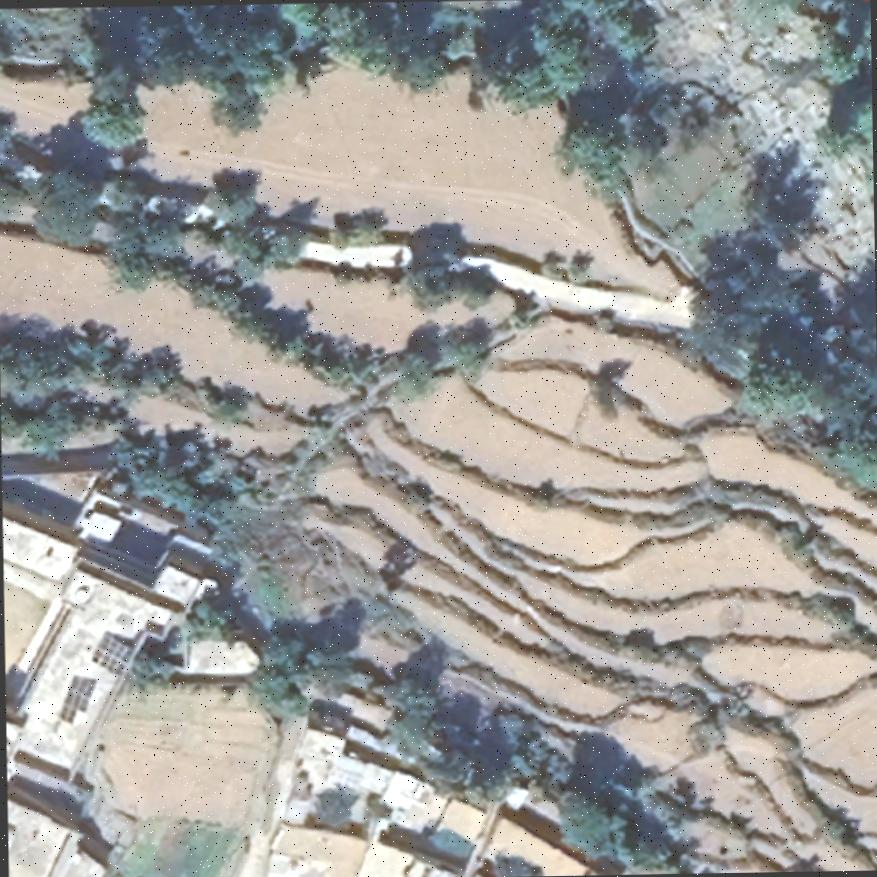Solarpanel: (56, 673, 97, 724), (88, 632, 134, 676)
